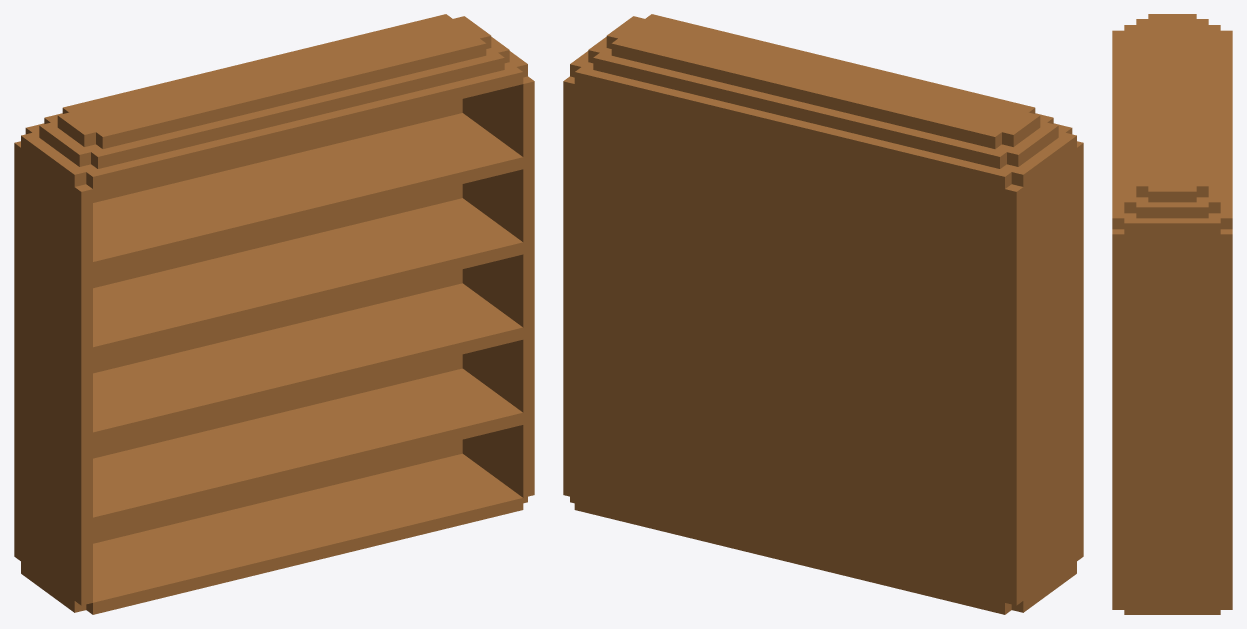
The model's file is Large Bookcase.obj.
The picture shows the model from 3 angles, left to right: view 1: azimuth 30°, elevation 25°; view 2: azimuth 150°, elevation 25°; view 3: azimuth 270°, elevation 25°; orthographic projection. The views are drawn at different scales.
Parts seen in each view (by area): view 1: Large Bookcase; view 2: Large Bookcase; view 3: Large Bookcase.
Part boxes in pixels (x1,y1,x2,y2): Large Bookcase: [14, 14, 534, 614]; Large Bookcase: [563, 14, 1083, 614]; Large Bookcase: [1112, 14, 1232, 614].
Size of the model in its own units: 39 by 38 by 10.
